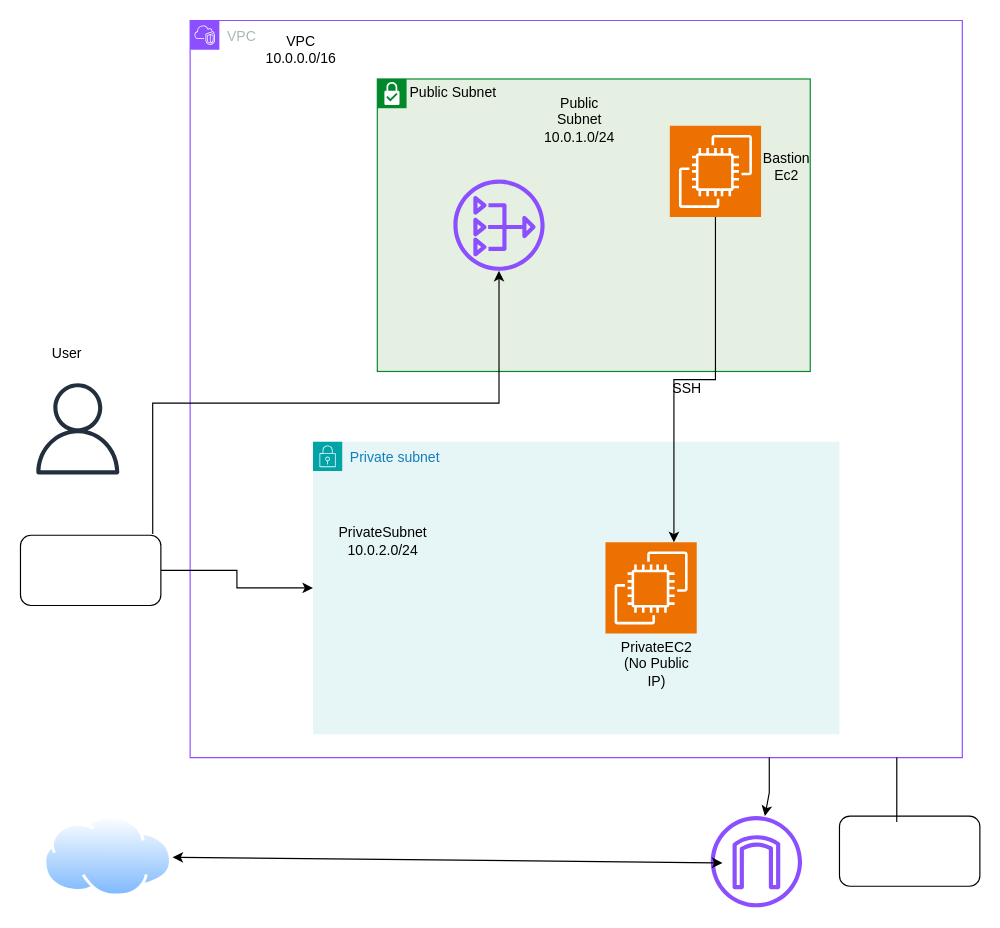
Some shapes in this 1000 by 928 pixel diagram are drawn without their labels. Each missing label, with the box of its shape:
Private Route Table 0.0.0.0/0-NAT GW: (19, 534, 161, 605)
Public Route Table 0.0.0.0/0-iGW: (838, 815, 980, 886)
